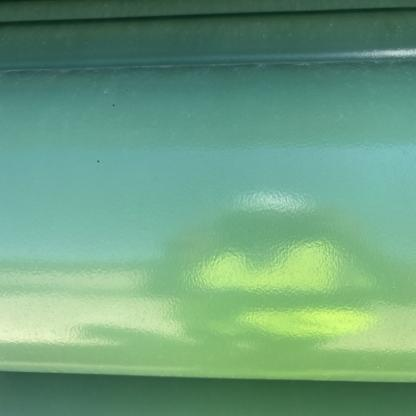clean: (140, 102, 230, 174)
